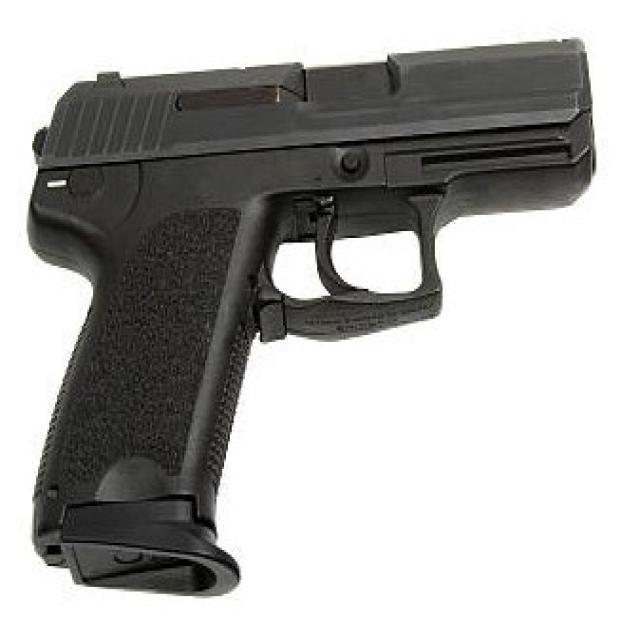pistol: (13, 31, 600, 602)
